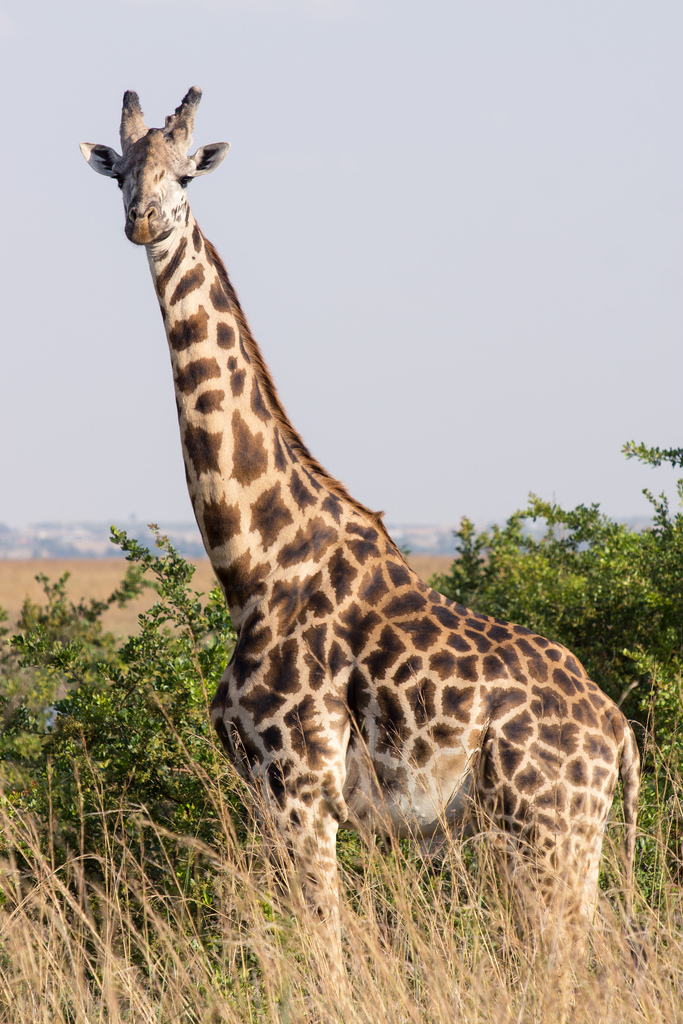giraffe: (76, 69, 642, 928)
